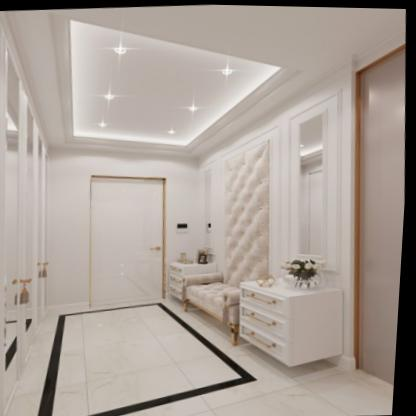Ceramic floor: (13, 301, 398, 416)
Gypsum Board: (35, 1, 338, 164)
